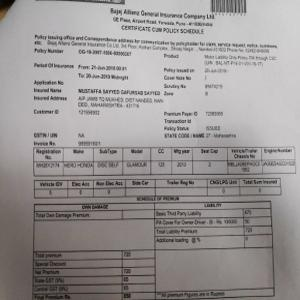table: (35, 204, 277, 296), (33, 146, 296, 174), (33, 179, 283, 196)
text: (30, 48, 276, 146), (33, 34, 278, 54), (109, 8, 216, 33)
